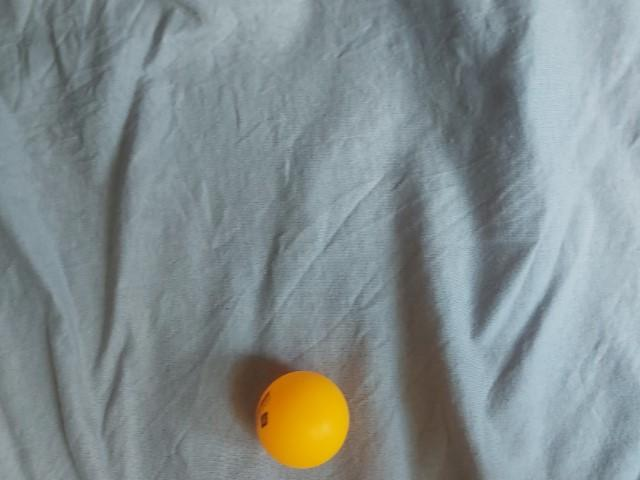oball: (283, 7, 392, 114)
